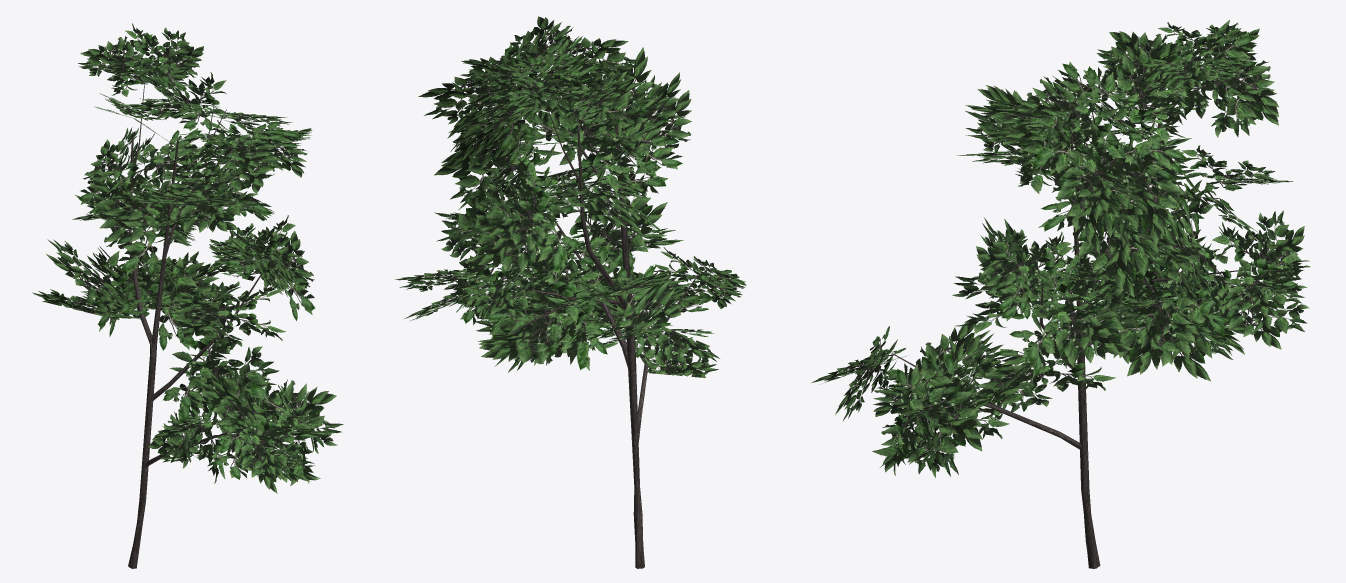
File: shrub_hazel_02.DAE
3 views of the same model, side by side, from view 1: azimuth 30°, elevation 25°; view 2: azimuth 150°, elevation 25°; view 3: azimuth 270°, elevation 25° (orthographic). The views are drawn at different scales.
Parts seen in each view (by area): view 1: shrub_hazel02_CommonHazelLeaves_1, shrub_hazel02_CommonHazelBark; view 2: shrub_hazel02_CommonHazelLeaves_1, shrub_hazel02_CommonHazelBark; view 3: shrub_hazel02_CommonHazelLeaves_1, shrub_hazel02_CommonHazelBark.
Part boxes in pixels (x1,y1,x2,y2): shrub_hazel02_CommonHazelLeaves_1: (32,23,343,493); shrub_hazel02_CommonHazelBark: (99,71,294,568); shrub_hazel02_CommonHazelLeaves_1: (395,16,746,377); shrub_hazel02_CommonHazelBark: (493,55,699,568); shrub_hazel02_CommonHazelLeaves_1: (811,20,1309,477); shrub_hazel02_CommonHazelBark: (891,71,1253,568).
Bounding box in the file's own units: 2 × 3.44 × 2.84.
